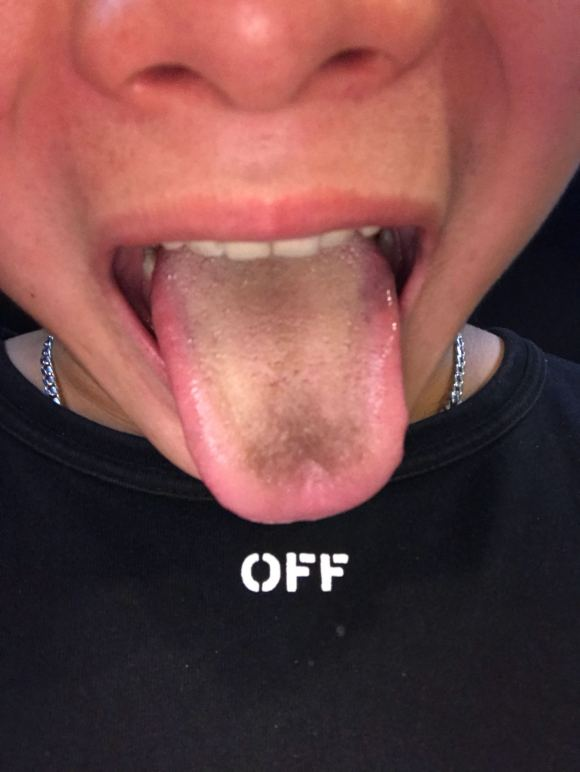heitaishe: (149, 236, 408, 524)
hongshe: (149, 236, 408, 524)
